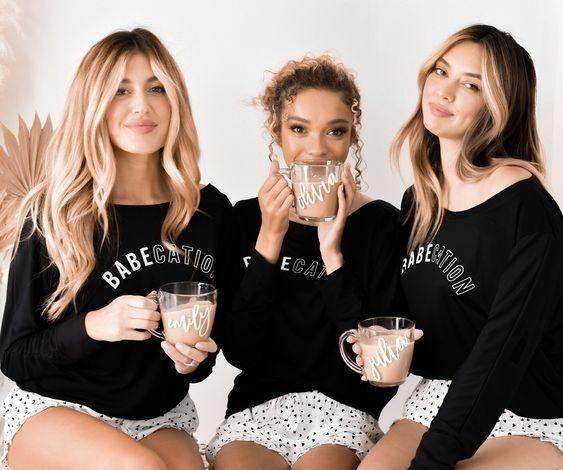glass-mug: (145, 279, 219, 369), (338, 314, 417, 388), (285, 157, 342, 225)
